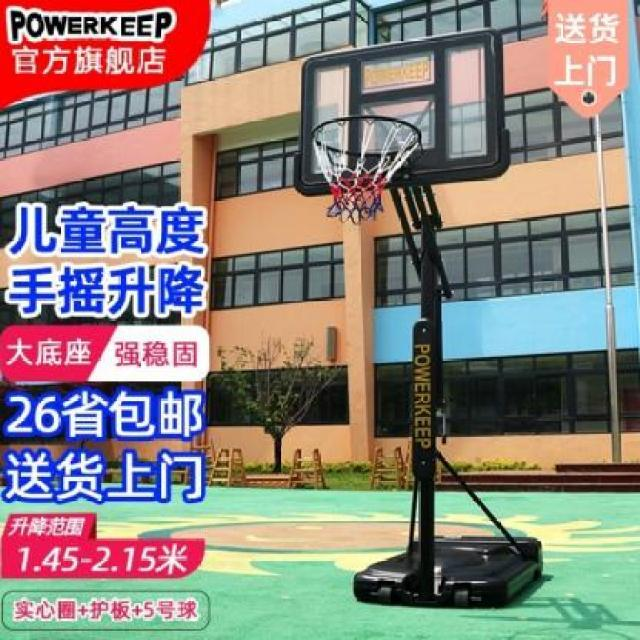rim: (309, 114, 423, 222)
